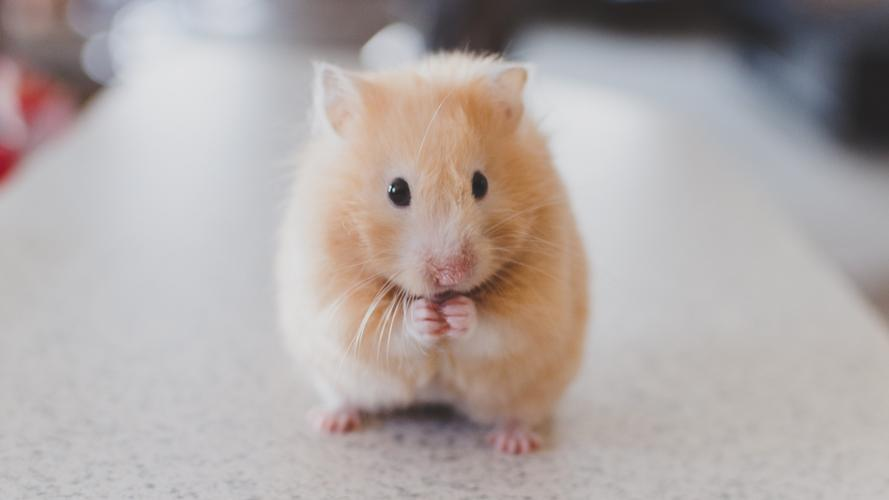rat: (278, 9, 598, 447)
